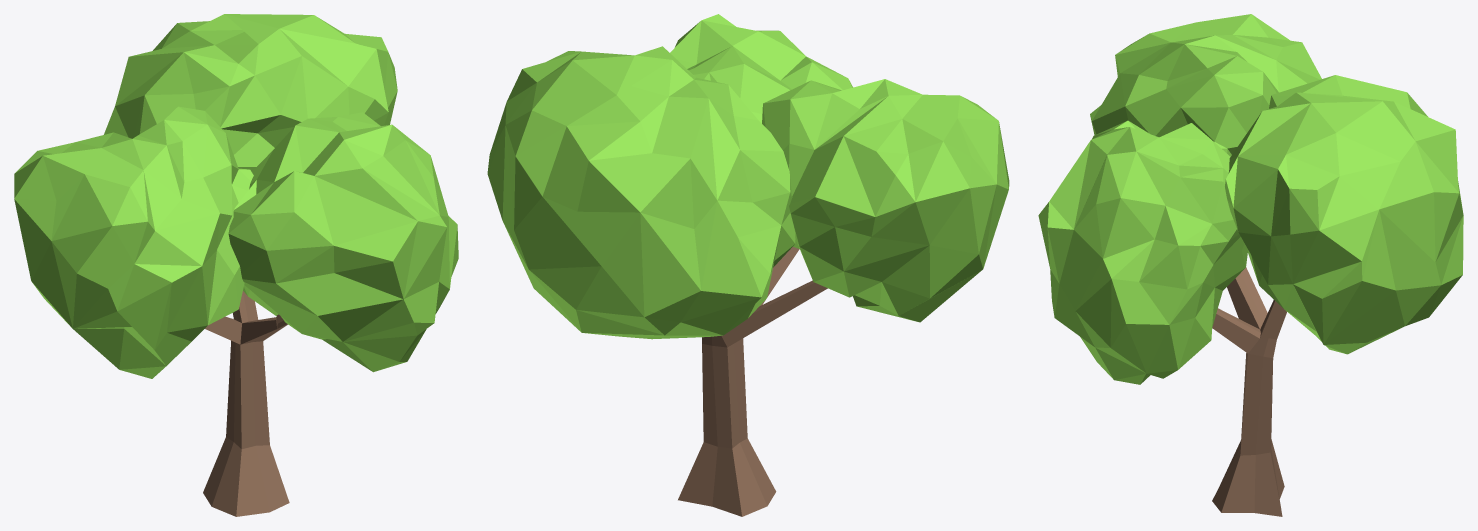
File: Tree1.fbx
3 views of the same model, side by side, from view 1: azimuth 30°, elevation 25°; view 2: azimuth 150°, elevation 25°; view 3: azimuth 270°, elevation 25° (orthographic). The views are drawn at different scales.
Visible parts, largest first — view 1: Tree_average_lush; view 2: Tree_average_lush; view 3: Tree_average_lush.
Boxes of the visible parts, bbox=[...] form: Tree_average_lush: bbox=[14, 14, 458, 516]; Tree_average_lush: bbox=[487, 14, 1009, 516]; Tree_average_lush: bbox=[1038, 14, 1463, 516].
Bounding box in the file's own units: 1467 × 1466 × 1324.
